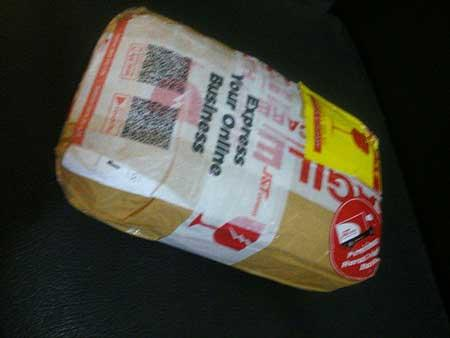undamaged: (39, 4, 396, 307)
